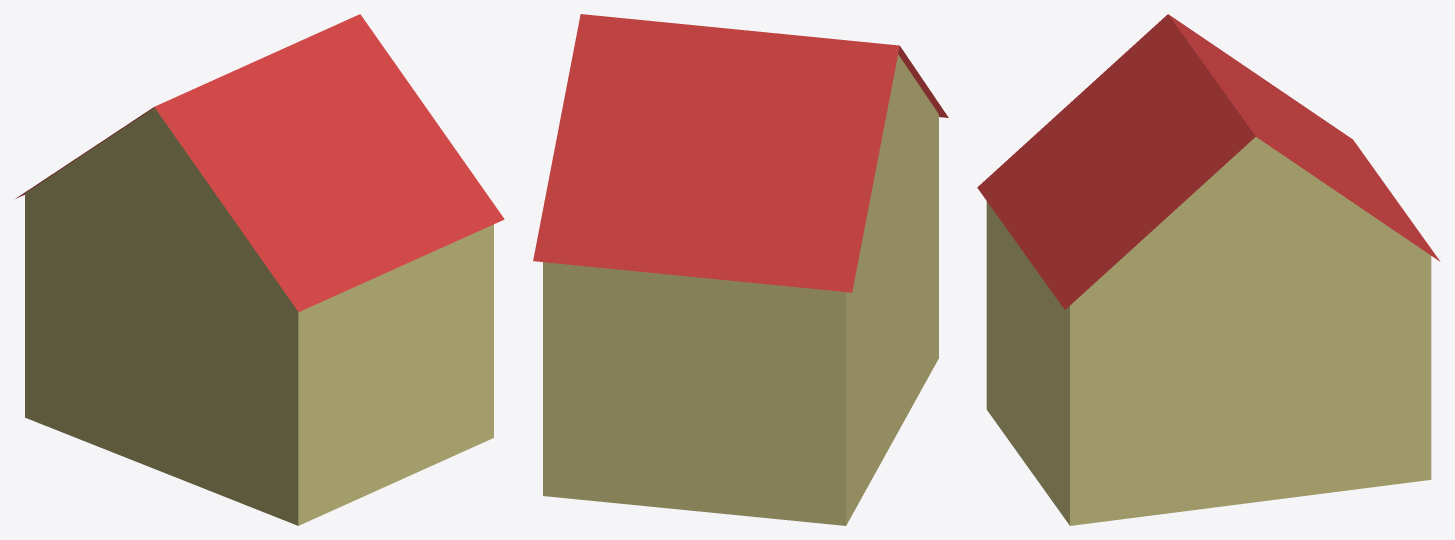
3 renders of one model, left to right at view 1: azimuth 30°, elevation 25°; view 2: azimuth 150°, elevation 25°; view 3: azimuth 270°, elevation 25°, orthographic. The views are drawn at different scales.
Bounding box in the file's own units: 13.3 × 15.27 × 13.4.
